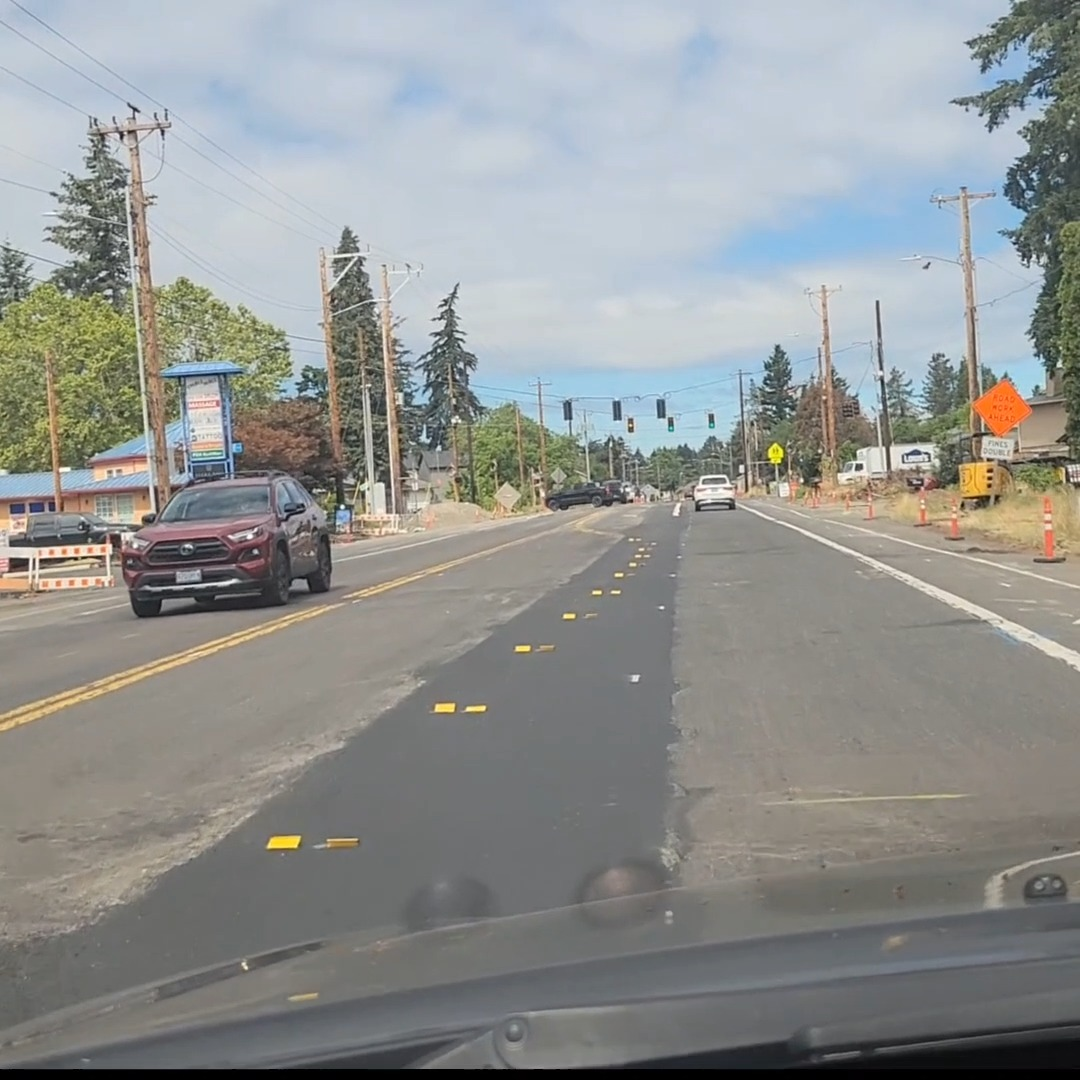car: (119, 470, 333, 615), (5, 511, 136, 564), (544, 481, 619, 510), (692, 474, 737, 511)
crosswalk-sign: (766, 442, 783, 464)
delineator: (1031, 496, 1064, 563), (943, 496, 965, 539), (914, 491, 930, 527), (863, 486, 875, 519), (843, 489, 852, 512), (811, 486, 820, 507), (788, 482, 794, 501)
